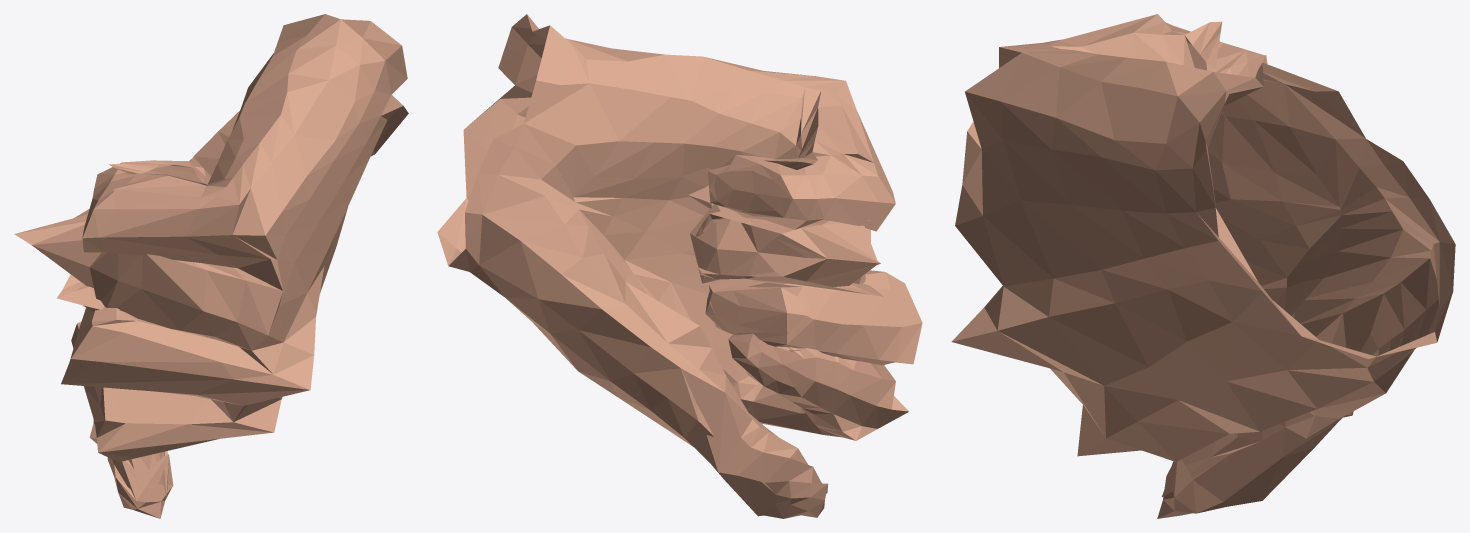
The picture shows the model from 3 angles, left to right: view 1: azimuth 30°, elevation 25°; view 2: azimuth 150°, elevation 25°; view 3: azimuth 270°, elevation 25°; orthographic projection. The views are drawn at different scales.
Size of the model in its own units: 0.126 by 0.1313 by 0.1011.
